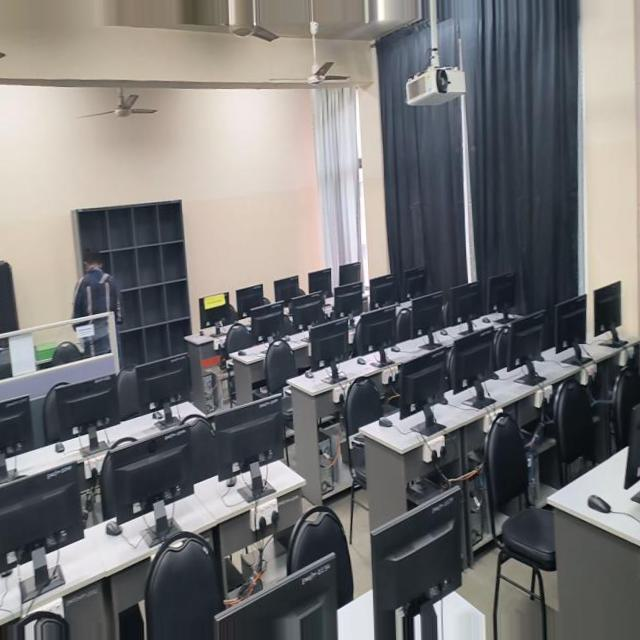Chair: (473, 423, 540, 639), (143, 543, 219, 639), (280, 519, 344, 627), (337, 383, 377, 501), (542, 389, 581, 497), (599, 369, 632, 466), (49, 380, 77, 444), (265, 341, 296, 398), (227, 322, 254, 358), (18, 623, 69, 639)
Cpu: (315, 439, 334, 506)
Monitor: (363, 501, 453, 639), (0, 465, 87, 583), (112, 430, 193, 533), (211, 570, 329, 639), (215, 400, 283, 510), (63, 373, 124, 431), (139, 352, 193, 416), (394, 353, 440, 428), (609, 408, 640, 508), (444, 334, 488, 401), (0, 393, 40, 461), (499, 316, 537, 379), (310, 321, 347, 383), (352, 308, 394, 359), (546, 299, 578, 360), (441, 283, 476, 336), (408, 293, 440, 341), (585, 286, 611, 343), (253, 301, 285, 343), (482, 274, 510, 322), (204, 289, 239, 326), (332, 281, 361, 319), (368, 273, 396, 310), (293, 299, 325, 331), (240, 280, 266, 316), (276, 272, 306, 300), (402, 267, 424, 299), (310, 265, 332, 296), (339, 259, 361, 284)
Mouse: (573, 513, 595, 533), (107, 529, 123, 545), (374, 425, 387, 436), (225, 485, 235, 496), (60, 444, 69, 455), (303, 372, 312, 381), (354, 360, 363, 368), (477, 319, 485, 326), (388, 350, 396, 356), (155, 415, 163, 421), (241, 350, 248, 356), (438, 334, 445, 338)
Projector: (409, 50, 467, 94)
